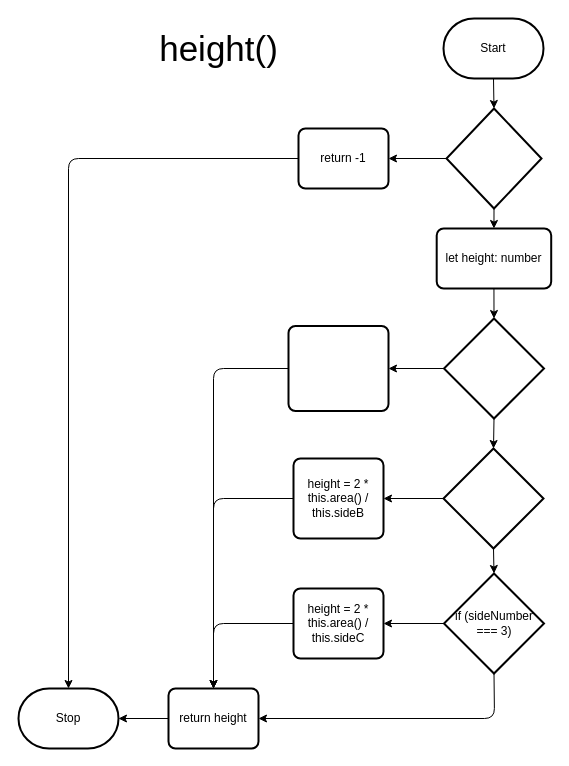
Image size: 569x766. Some labels were removed from this diagram. Here are the shapes that lost their labels. From the top down, the box of each, then its label:
(445, 107, 542, 209): if (this.isValid() === false)
(287, 324, 389, 412): height = 2 * this.area() / this.sideA
(442, 317, 544, 419): if (sideNumber === 1)
(442, 447, 544, 549): if (sideNumber === 2)
